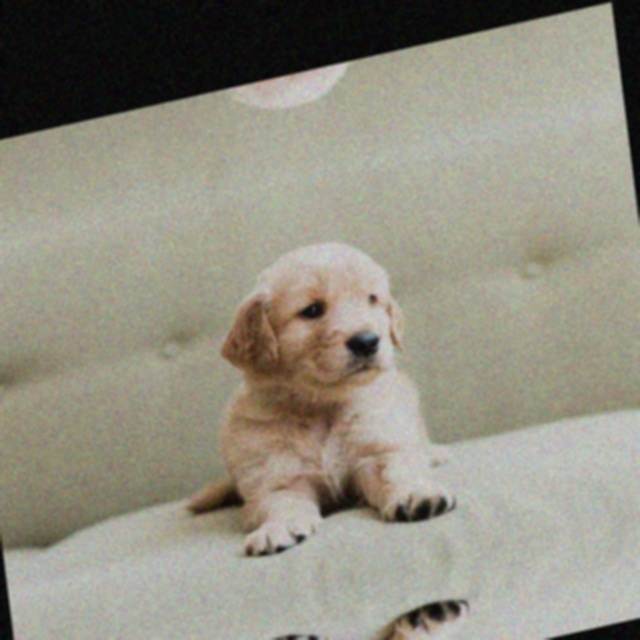dog: (145, 199, 466, 581), (127, 48, 414, 161), (194, 587, 484, 640)
